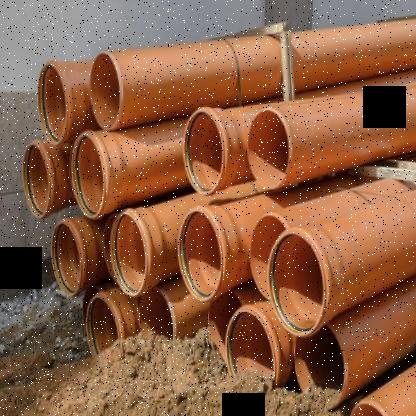pipe: (267, 231, 326, 338), (177, 210, 223, 303), (294, 324, 344, 408), (224, 308, 276, 388), (182, 109, 223, 196), (247, 109, 290, 189), (250, 214, 287, 301), (109, 211, 146, 297), (70, 134, 104, 219), (90, 49, 124, 131), (36, 62, 66, 145), (50, 222, 82, 296), (22, 141, 51, 219), (85, 296, 119, 358), (138, 288, 174, 338), (348, 402, 397, 416)
